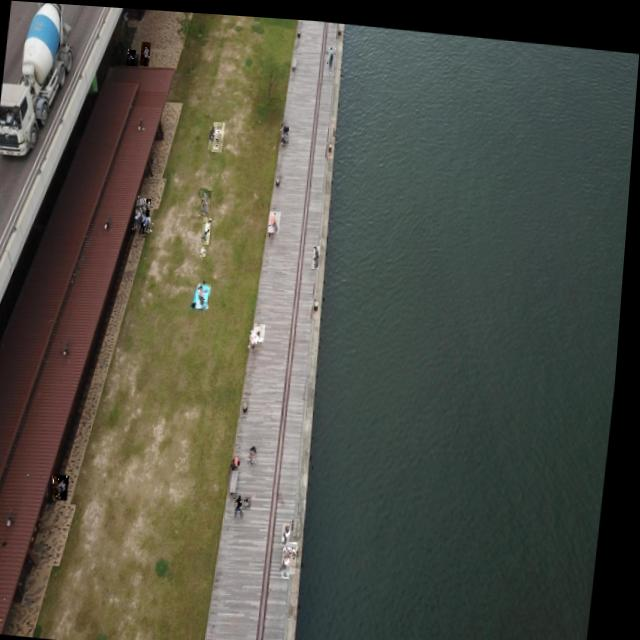Person: (289, 536, 306, 569), (58, 473, 77, 499), (213, 118, 226, 149), (239, 489, 253, 516), (201, 187, 215, 213), (290, 541, 301, 574), (138, 192, 150, 219), (326, 41, 336, 71), (142, 207, 152, 236), (140, 39, 151, 64), (288, 518, 299, 543), (270, 207, 283, 228), (204, 214, 214, 241), (147, 206, 158, 229), (254, 440, 266, 461), (253, 326, 266, 345), (257, 319, 270, 338), (280, 117, 291, 139), (198, 289, 212, 305), (137, 202, 146, 226), (200, 280, 215, 293), (315, 241, 323, 264), (210, 123, 217, 148), (127, 47, 137, 64), (282, 122, 290, 141), (147, 196, 154, 214), (251, 493, 258, 506), (203, 243, 210, 253)
